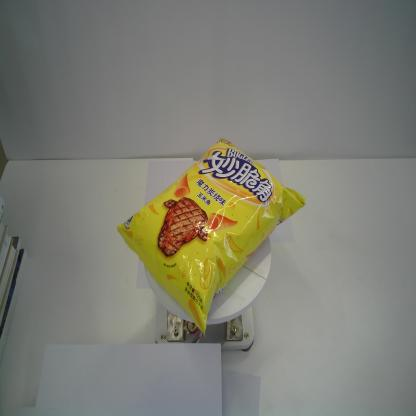Puffed Food: (117, 137, 306, 336)
